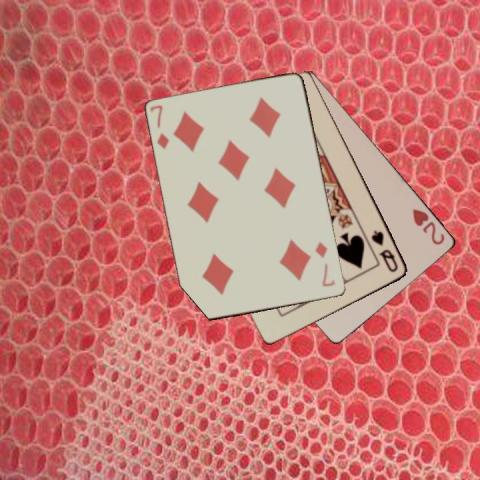2h: (409, 205, 447, 247)
7d: (147, 102, 172, 151), (312, 238, 336, 288)
Qs: (369, 227, 400, 274)
